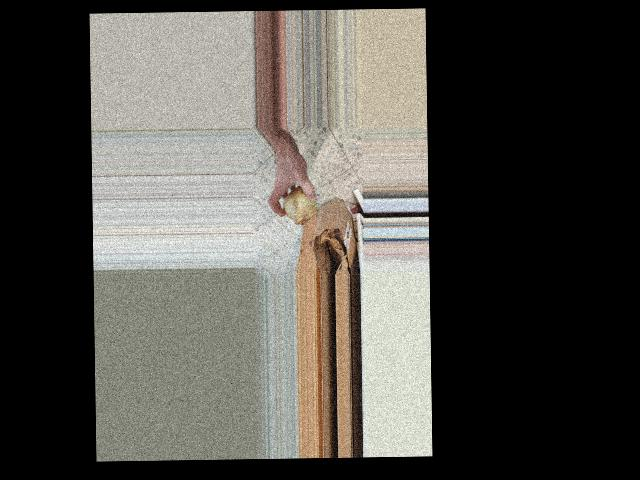onion: (282, 180, 317, 224)
